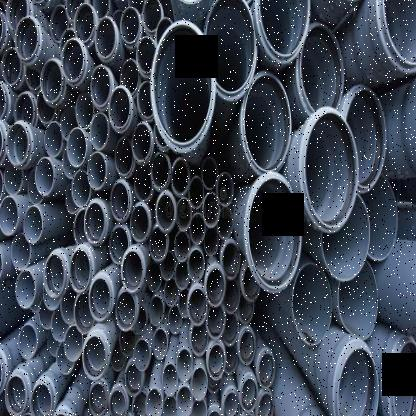pipe: (150, 21, 216, 153), (300, 106, 358, 233), (244, 172, 302, 293), (203, 0, 257, 101), (240, 70, 291, 175), (296, 22, 345, 119), (343, 86, 387, 192), (321, 193, 371, 280), (255, 0, 311, 64), (359, 174, 398, 261), (292, 263, 332, 347), (338, 259, 378, 340), (337, 345, 379, 416), (376, 0, 416, 73), (392, 340, 416, 416), (62, 38, 87, 86), (109, 86, 133, 133), (83, 335, 107, 381), (40, 59, 63, 105), (15, 17, 39, 61), (6, 123, 29, 167), (89, 276, 111, 322), (69, 248, 91, 293), (4, 374, 27, 416), (132, 122, 154, 165), (84, 201, 106, 244), (121, 250, 143, 293), (44, 254, 65, 298), (115, 290, 137, 332), (95, 16, 116, 60), (90, 64, 111, 107), (73, 2, 95, 43), (204, 267, 226, 308), (73, 294, 95, 334), (119, 59, 142, 97), (15, 270, 36, 310), (136, 37, 156, 78), (115, 137, 135, 178), (1, 47, 22, 86), (67, 128, 87, 168), (35, 156, 55, 196), (110, 182, 130, 222), (23, 206, 44, 244), (29, 382, 52, 416), (221, 239, 240, 280), (71, 170, 91, 208), (156, 193, 176, 231), (131, 204, 151, 242), (109, 226, 129, 264), (120, 6, 140, 44), (239, 372, 258, 412), (6, 0, 29, 33), (241, 263, 260, 302), (11, 233, 31, 270), (64, 325, 84, 362), (137, 81, 155, 122), (257, 348, 275, 389), (90, 112, 109, 150), (88, 152, 107, 190), (50, 5, 69, 43), (207, 343, 226, 381), (0, 195, 18, 235), (238, 326, 256, 366), (75, 92, 94, 129), (44, 121, 63, 158), (151, 152, 170, 189), (188, 288, 206, 327), (18, 324, 38, 359), (135, 166, 154, 202), (51, 306, 70, 342), (88, 380, 107, 416), (36, 90, 56, 124), (14, 92, 35, 124), (4, 163, 24, 196), (142, 0, 162, 33), (202, 192, 220, 228), (60, 106, 79, 140), (172, 157, 189, 195), (206, 306, 225, 340), (56, 341, 75, 375), (124, 363, 143, 397), (38, 298, 58, 330), (223, 278, 240, 314), (217, 172, 234, 207), (150, 227, 167, 262), (191, 366, 208, 401), (133, 338, 151, 371), (28, 169, 44, 205), (191, 324, 209, 356), (201, 157, 218, 190), (176, 349, 193, 382), (222, 312, 238, 347), (175, 385, 193, 416), (74, 209, 89, 246), (255, 387, 274, 416), (188, 176, 204, 210), (176, 198, 192, 232), (162, 362, 178, 396), (66, 0, 87, 25), (155, 17, 173, 46), (145, 387, 163, 416), (217, 208, 233, 240), (190, 213, 206, 245), (174, 231, 190, 263), (188, 249, 204, 281), (238, 294, 255, 324), (111, 338, 126, 372), (109, 389, 127, 416), (160, 251, 176, 281), (153, 328, 168, 360), (61, 290, 75, 324), (65, 182, 79, 215), (119, 330, 136, 357), (222, 391, 240, 416), (164, 278, 179, 307), (149, 296, 164, 325), (174, 262, 190, 289), (132, 389, 148, 416), (133, 305, 147, 334), (168, 305, 182, 334), (224, 346, 238, 375), (47, 329, 62, 356), (25, 66, 41, 91), (204, 228, 218, 256), (147, 263, 161, 291), (178, 288, 190, 319), (161, 395, 178, 416), (92, 0, 109, 19), (190, 398, 207, 416), (128, 0, 145, 16), (0, 82, 7, 119), (0, 352, 4, 398), (0, 120, 4, 164), (0, 9, 4, 49), (0, 167, 4, 204), (0, 245, 3, 285), (206, 411, 222, 416), (50, 413, 70, 416), (240, 414, 256, 416)
